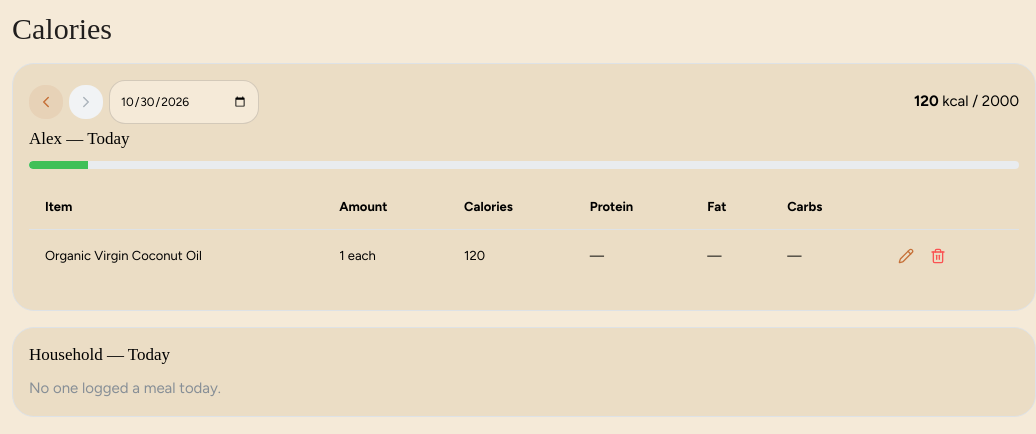
Test: CaloriesPage › pages back a day and asks the server for that date
Expected: the text "Organic Virgin Coconut Oil" is shown, [29, 229, 323, 282]
Click the button named "Previous day". click: (46, 102)
box: [29, 84, 63, 118]
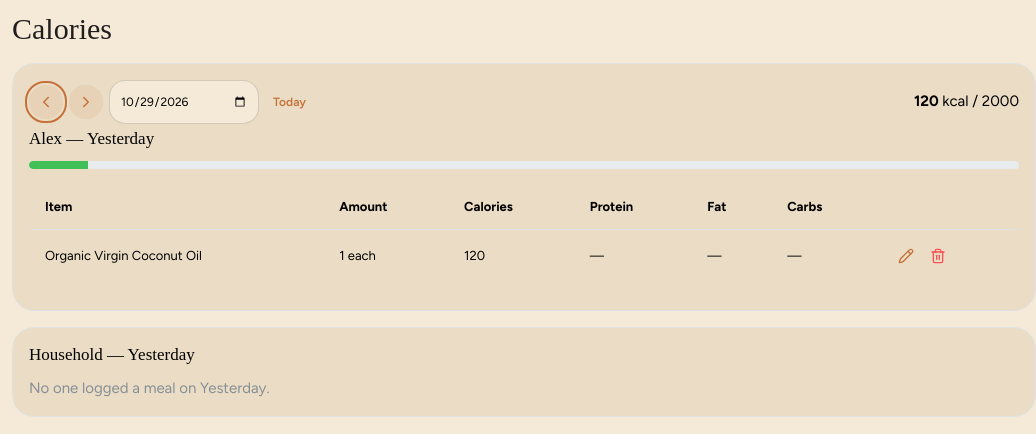
Now the heading "Alex — Yesterday" is shown, box [29, 128, 154, 148]
